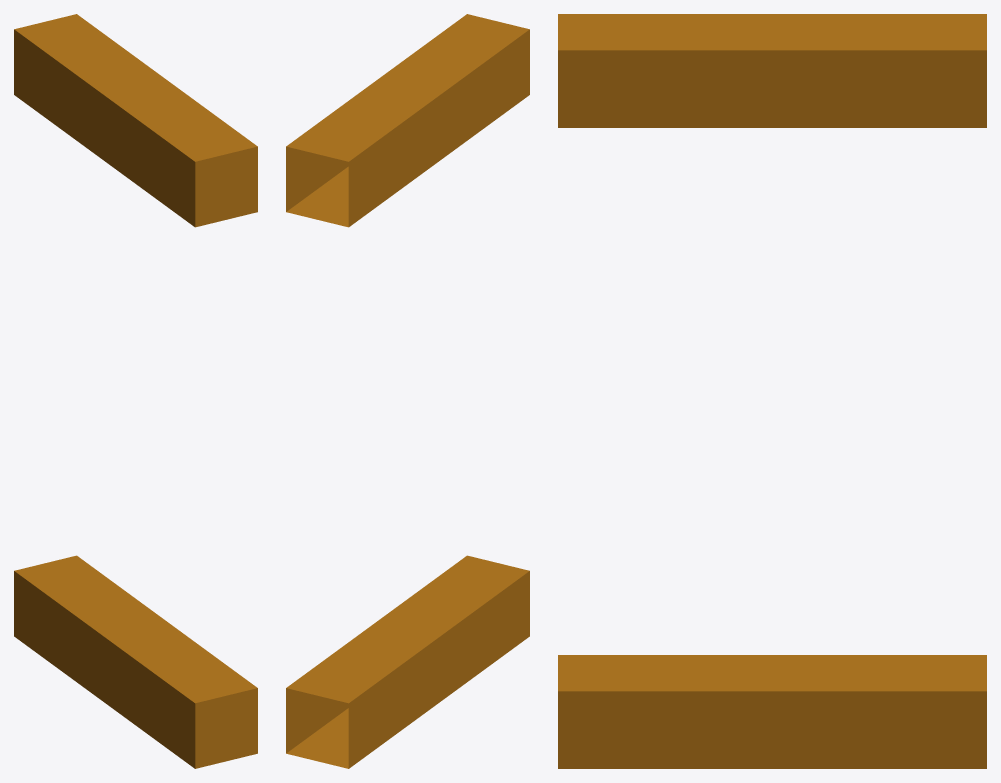
Rendered from pillar_north.glb.
The picture shows the model from 3 angles, left to right: view 1: azimuth 30°, elevation 25°; view 2: azimuth 150°, elevation 25°; view 3: azimuth 270°, elevation 25°; orthographic projection. The views are drawn at different scales.
Parts seen in each view (by area): view 1: bridge_05_pillar_north; view 2: bridge_05_pillar_north; view 3: bridge_05_pillar_north.
Boxes of the visible parts, x1=… form: bridge_05_pillar_north: x1=14, y1=14, x2=257, y2=768; bridge_05_pillar_north: x1=286, y1=14, x2=529, y2=768; bridge_05_pillar_north: x1=558, y1=14, x2=986, y2=768.
Size of the model in its own units: 1.6 by 14.8 by 8.
